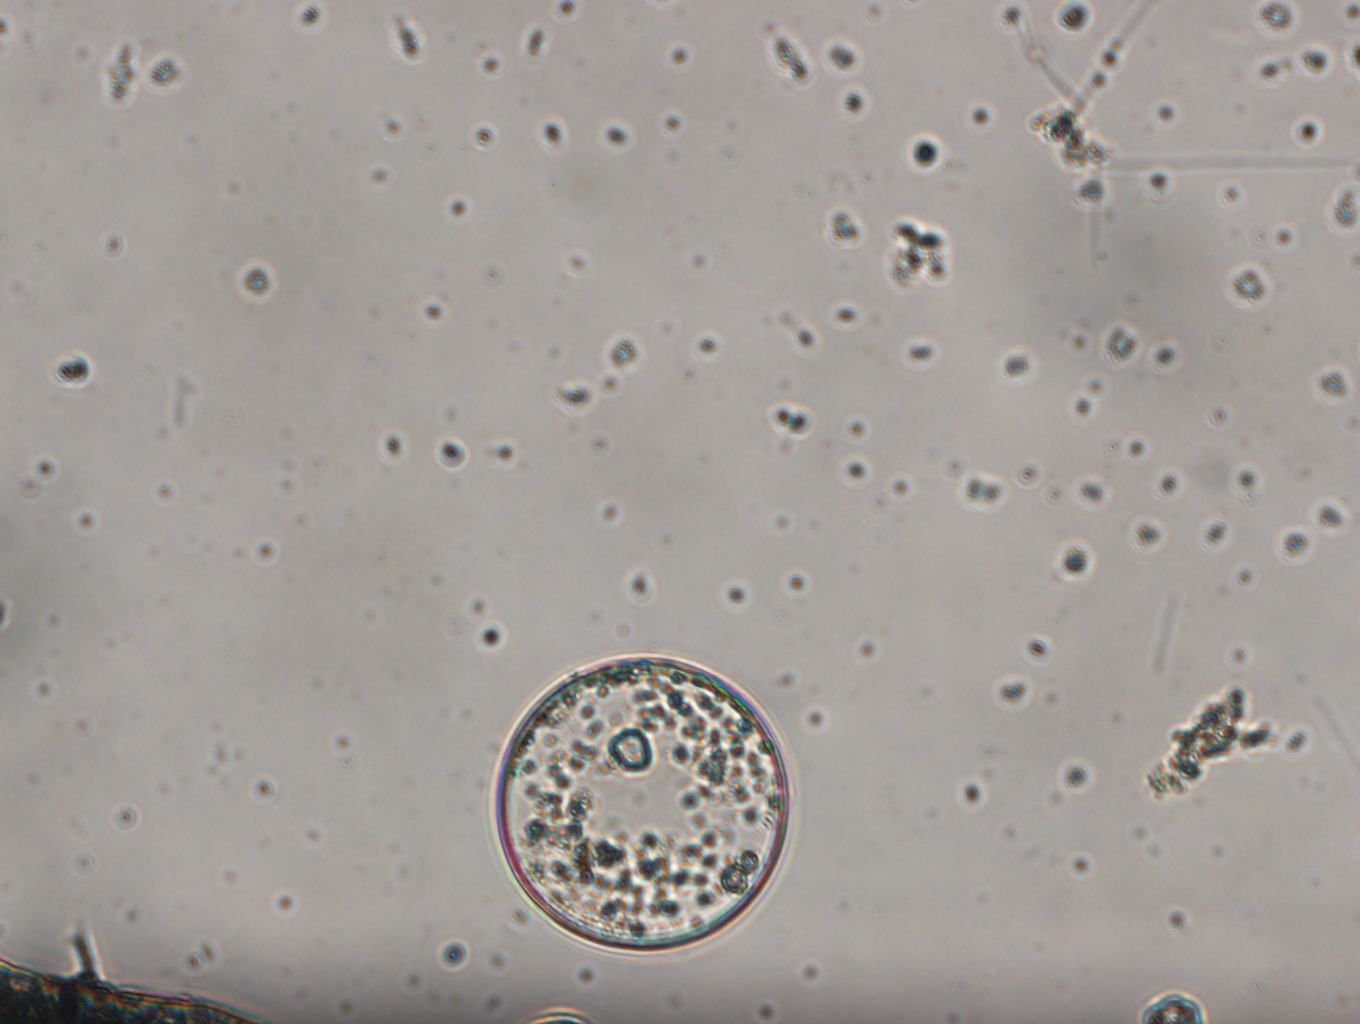coscinodiscus: (486, 649, 797, 957)
